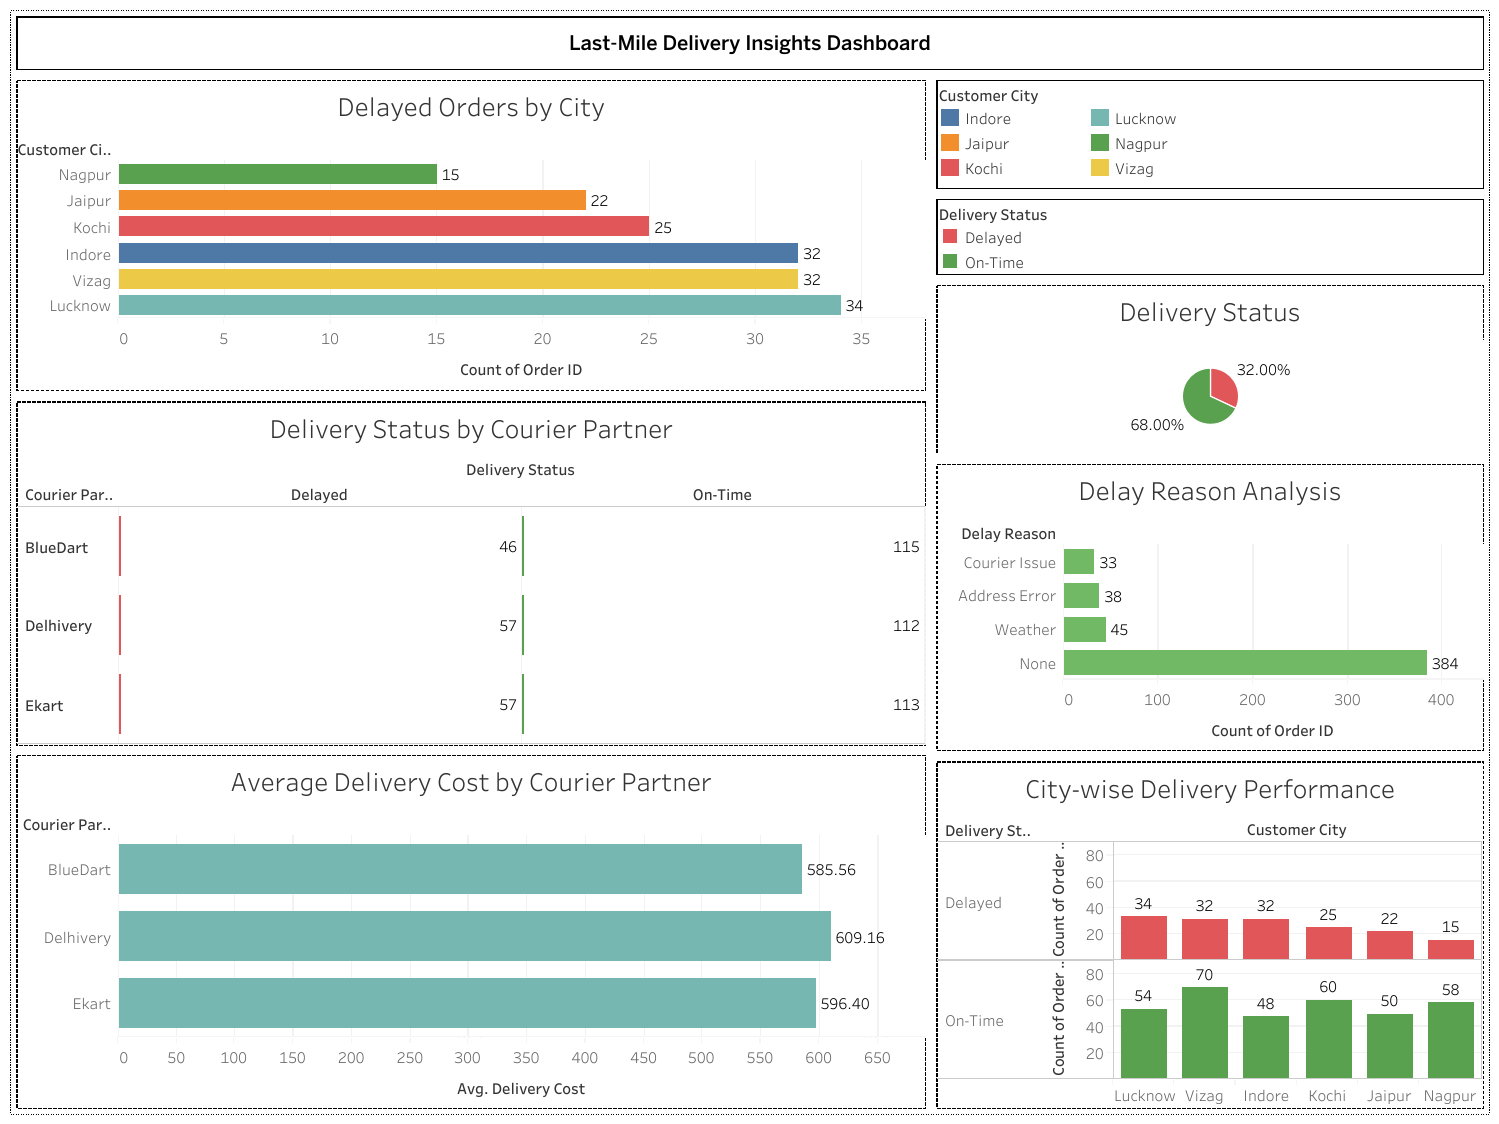

The page's visual inventory and layout, read from the dashboard file:
{"tool":"tableau","page":{"name":"Dashboard 1","canvas":[1200,900],"ordinal":0},"visuals":[{"type":"text","box":[9,9,1182,50.9]},{"type":"worksheet","title":"Delayed Orders by City","mark":"Automatic","rows":["Customer City"],"cols":["Order ID"],"box":[9,59.9,736,257.6]},{"type":"legend","title":"Delayed Orders by City","param":"[federated.1rt615u0b2uvl51g9ads50c6evxh].[none:Customer City:nk]","box":[745,59.9,446,95]},{"type":"legend","title":"Delivery Status","param":"[federated.1rt615u0b2uvl51g9ads50c6evxh].[none:DeliveryStatus:nk]","box":[745,154.9,446,74]},{"type":"worksheet","title":"Delivery Status","mark":"Pie","box":[745,228.9,446,143]},{"type":"worksheet","title":"Delivery Status by Courier Partner","mark":"Bar","rows":["Courier Partner"],"cols":["DeliveryStatus"],"box":[9,317.5,736,283]},{"type":"worksheet","title":"Delay Reason Analysis","mark":"Automatic","rows":["DelayReason"],"cols":["Order ID"],"box":[745,371.9,446,223.1]},{"type":"worksheet","title":"City-wise Delivery Performance ","mark":"Automatic","rows":["DeliveryStatus","Order ID"],"cols":["Customer City"],"box":[745,595,446,296]},{"type":"worksheet","title":"Average Delivery Cost by Courier Partner","mark":"Automatic","rows":["Courier Partner"],"cols":["DeliveryCost"],"box":[9,600.5,736,290.5]}]}

Visuals, with their boxes in screenshot pixels (x1, y1, x2, y2), scaled from the page's 1200x900 canvas onto the 1499x1124 screenshot:
text: BBox(11, 11, 1488, 75)
"Delayed Orders by City" worksheet: BBox(11, 75, 931, 397)
"Delayed Orders by City" legend: BBox(931, 75, 1488, 193)
"Delivery Status" legend: BBox(931, 193, 1488, 286)
"Delivery Status" worksheet (Pie marks): BBox(931, 286, 1488, 464)
"Delivery Status by Courier Partner" worksheet (Bar marks): BBox(11, 397, 931, 750)
"Delay Reason Analysis" worksheet: BBox(931, 464, 1488, 743)
"City-wise Delivery Performance " worksheet: BBox(931, 743, 1488, 1113)
"Average Delivery Cost by Courier Partner" worksheet: BBox(11, 750, 931, 1113)
